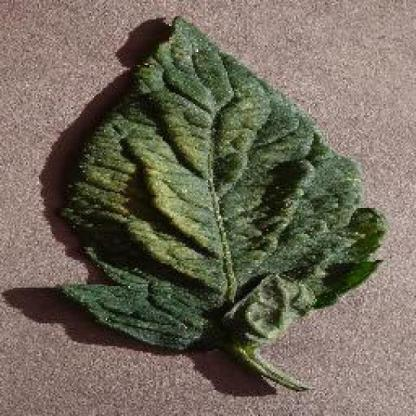Tomato_Spider_Mites: (59, 15, 385, 346)
